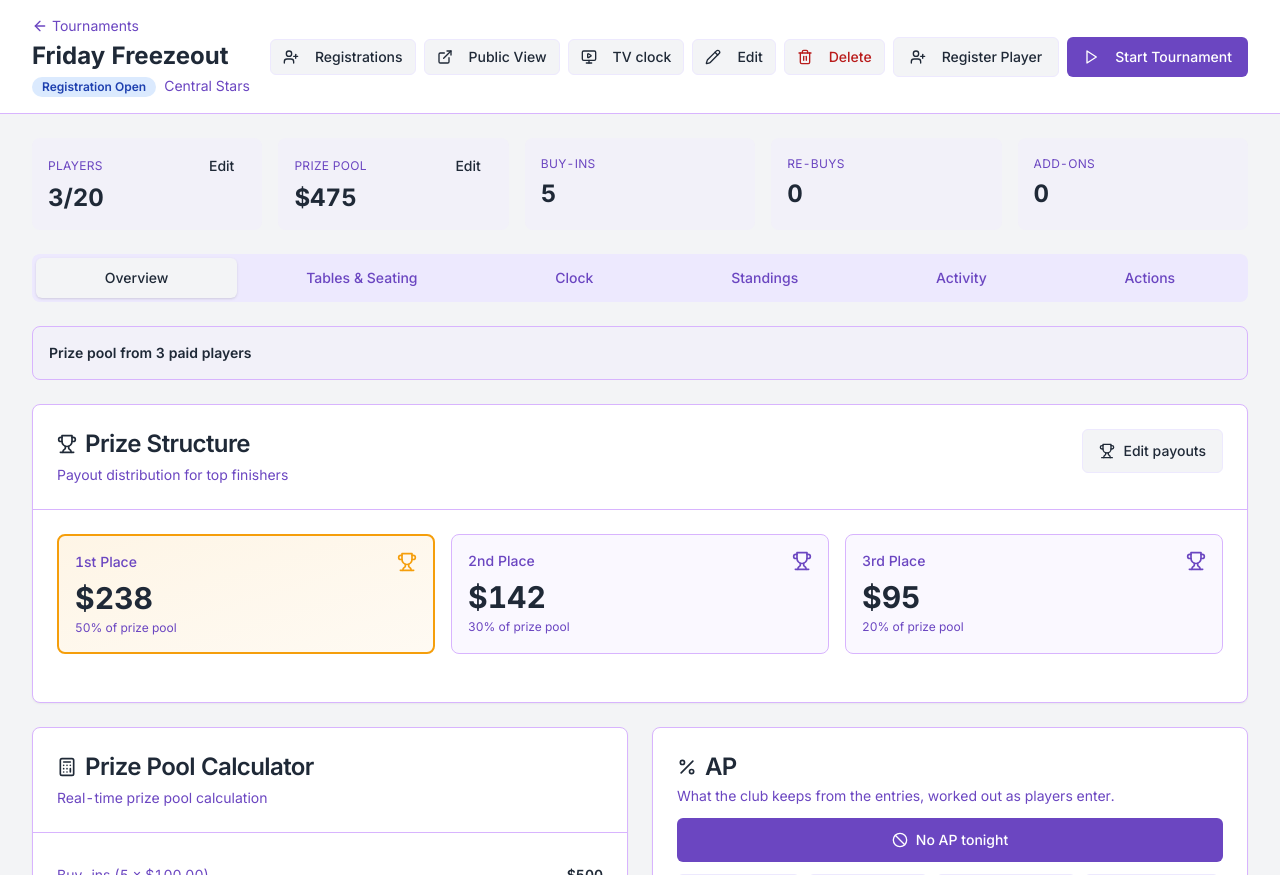
TournamentDetailsPage: status › starts a tournament once enough players are in
The image size is (1280, 875).
Click the button with test id "start-tournament" at coordinates (1158, 57), box [1067, 37, 1248, 77]
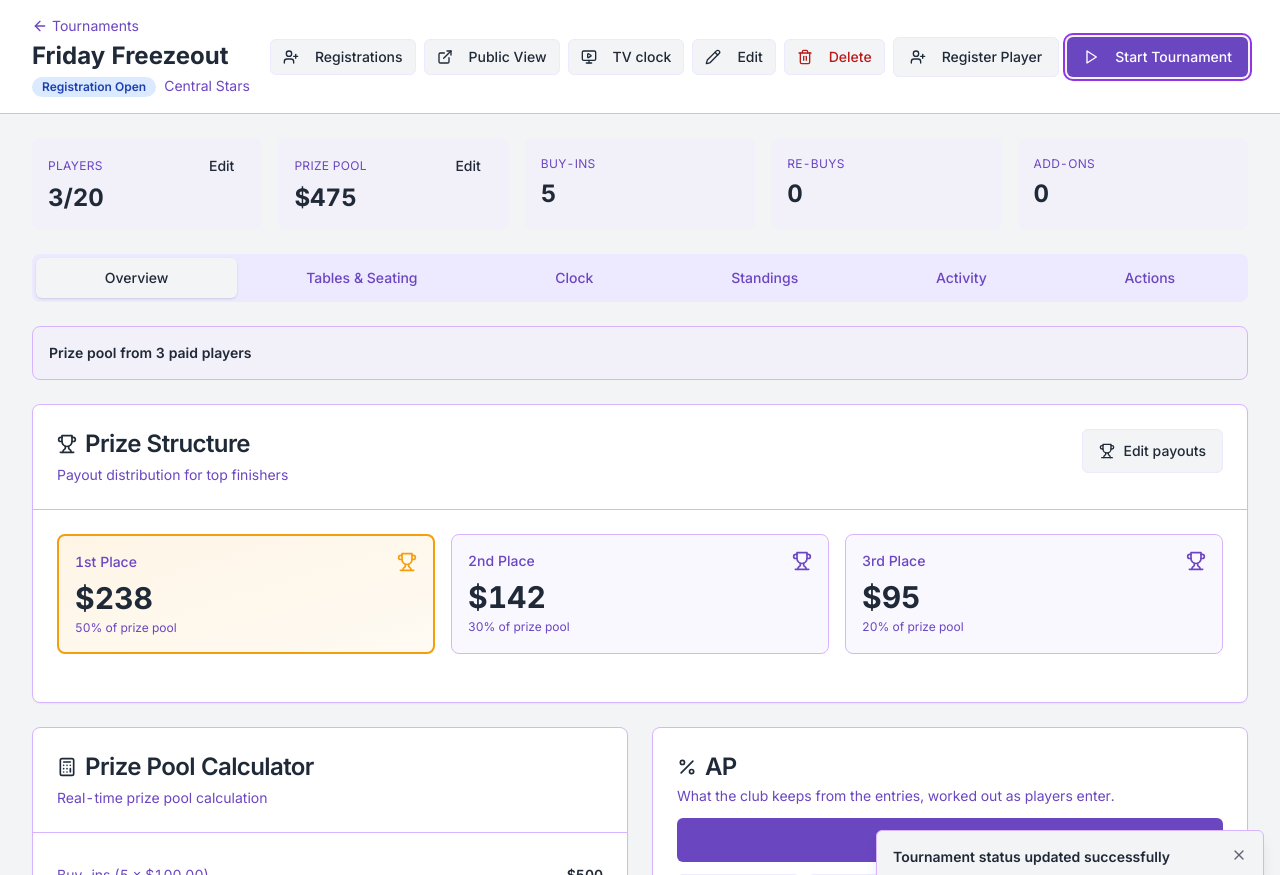
Now the text "Tournament status updated successfully" is shown, box [893, 847, 1215, 867]
